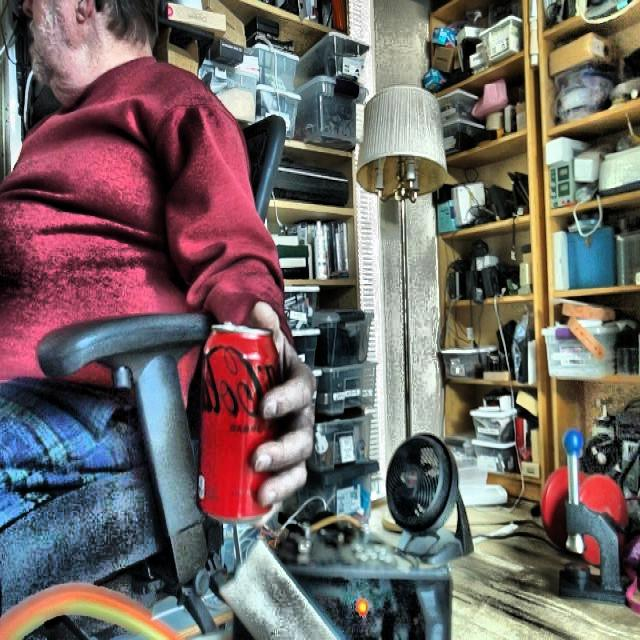CokeZero-can: (196, 324, 279, 526)
